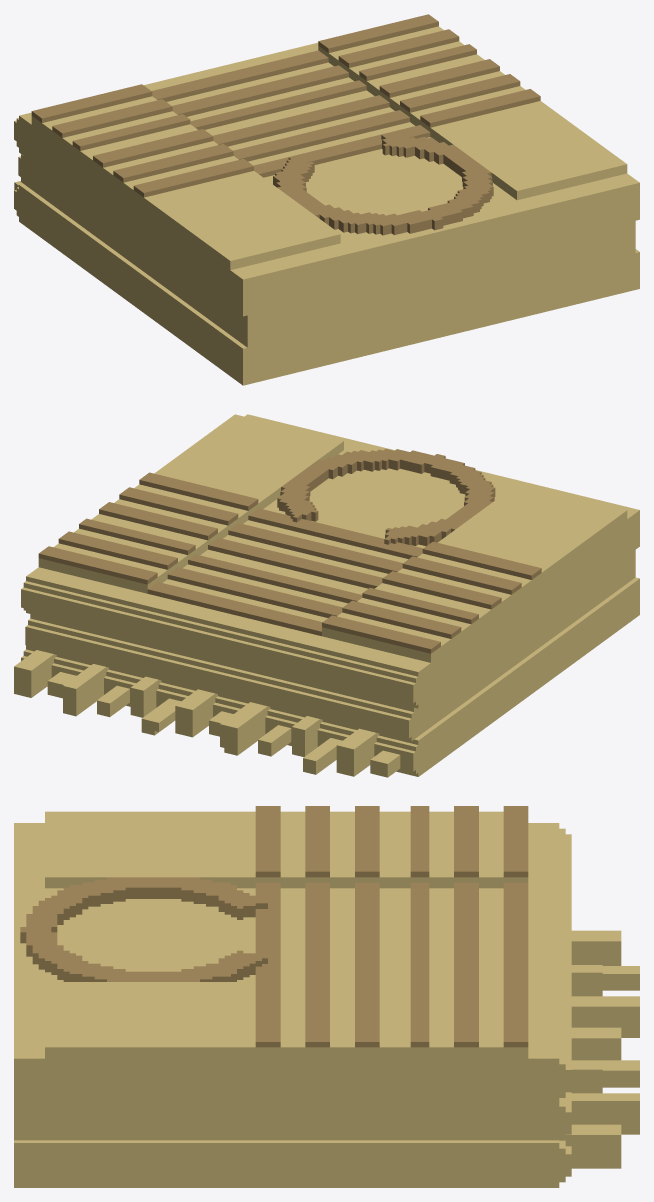
Rendered from shirt_straw.glb.
3 renders of one model, top to bottom at view 1: azimuth 30°, elevation 25°; view 2: azimuth 150°, elevation 25°; view 3: azimuth 270°, elevation 25°, orthographic. The views are drawn at different scales.
Parts seen in each view (by area): view 1: shirt_straw:compound; view 2: shirt_straw:compound; view 3: shirt_straw:compound.
Boxes of the visible parts, box(x1,y1,x2,y2) form: shirt_straw:compound: box(14, 14, 639, 385); shirt_straw:compound: box(14, 414, 639, 777); shirt_straw:compound: box(14, 806, 639, 1187).
Size of the model in its own units: 0.36 by 0.104 by 0.404.
